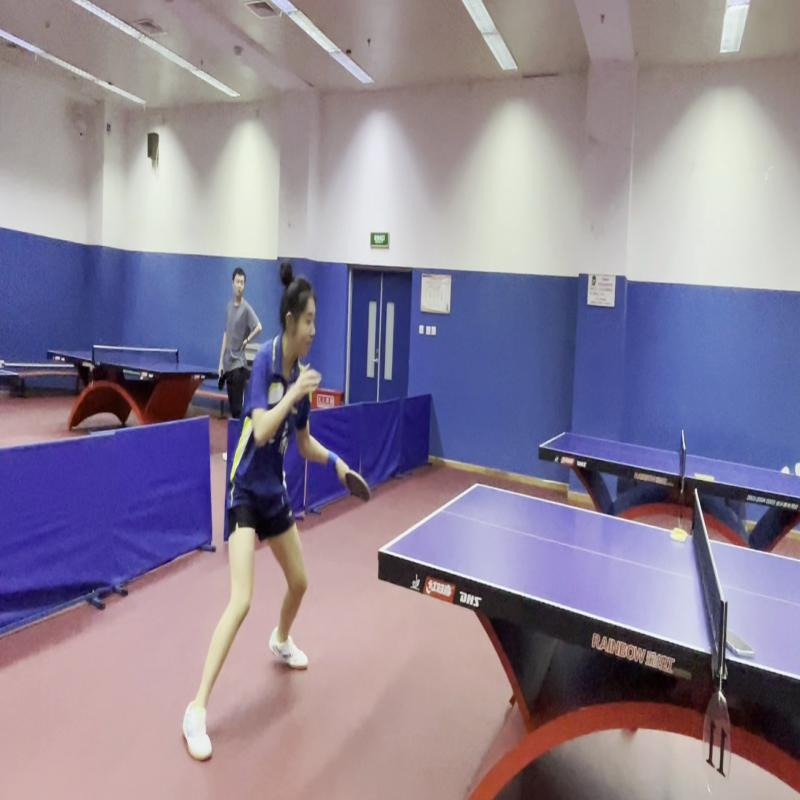bats: (341, 454, 375, 513)
